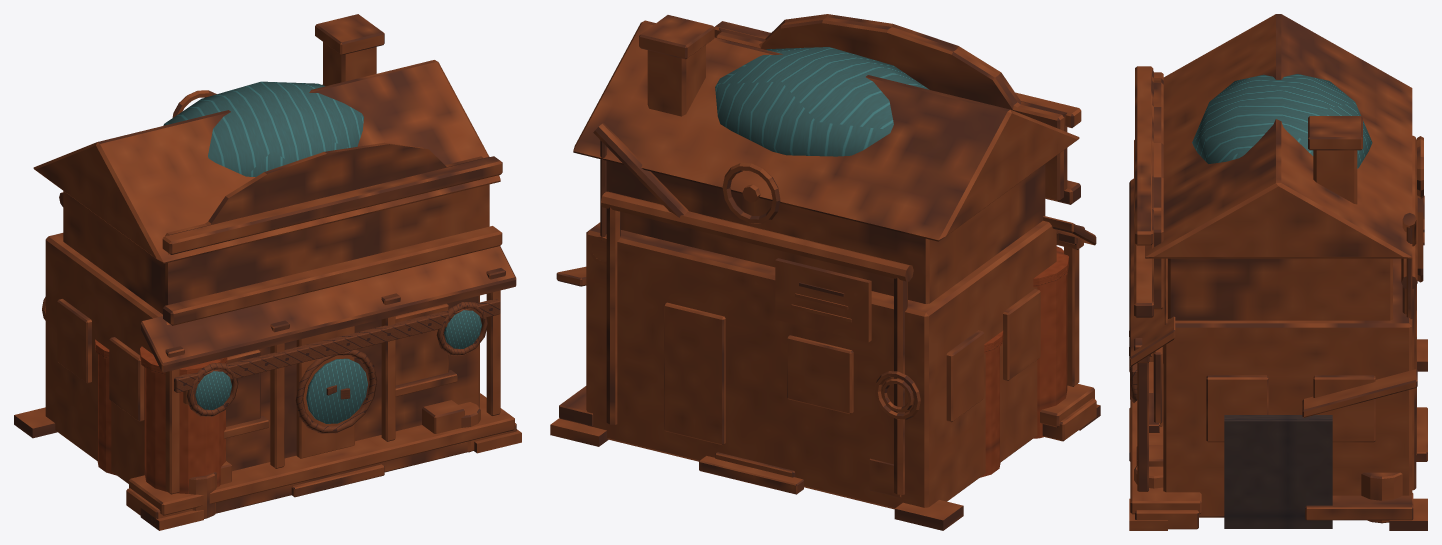
File: general-store.e10.glb
3 views of the same model, side by side, from view 1: azimuth 30°, elevation 25°; view 2: azimuth 150°, elevation 25°; view 3: azimuth 270°, elevation 25° (orthographic). The views are drawn at different scales.
Parts seen in each view (by area): view 1: GeneralStoreE10PreserveHold; view 2: GeneralStoreE10PreserveHold; view 3: GeneralStoreE10PreserveHold.
Part boxes in pixels (box(x1,y1,x2,y2)): GeneralStoreE10PreserveHold: box(14, 14, 521, 530); GeneralStoreE10PreserveHold: box(550, 14, 1100, 530); GeneralStoreE10PreserveHold: box(1129, 14, 1427, 530).
Bounding box in the file's own units: 4.7 × 4.44 × 3.26.
1 material, 1 textured.
